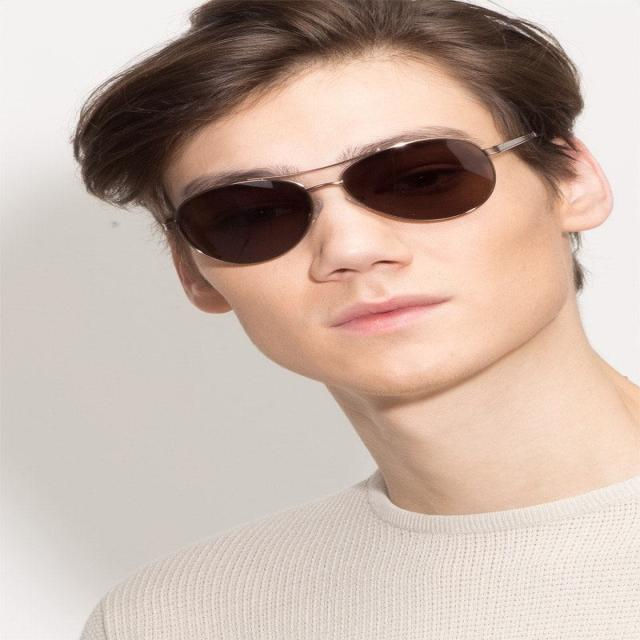2_gafas: (162, 129, 540, 266)
